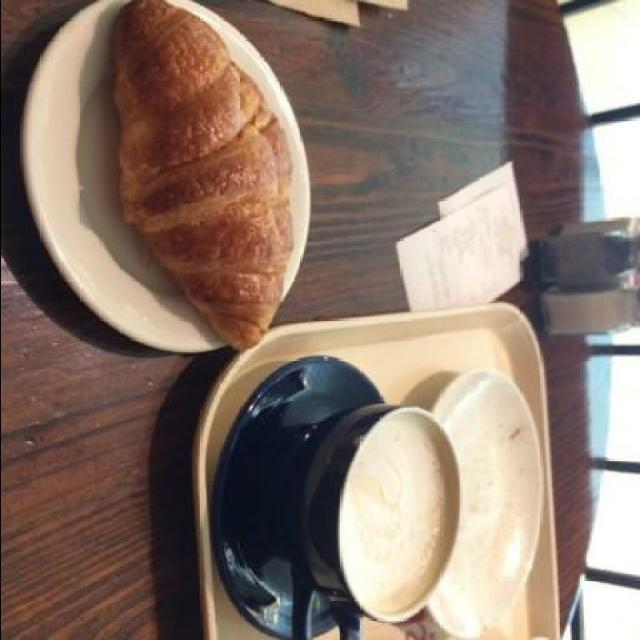Croissant: (116, 0, 292, 354)
